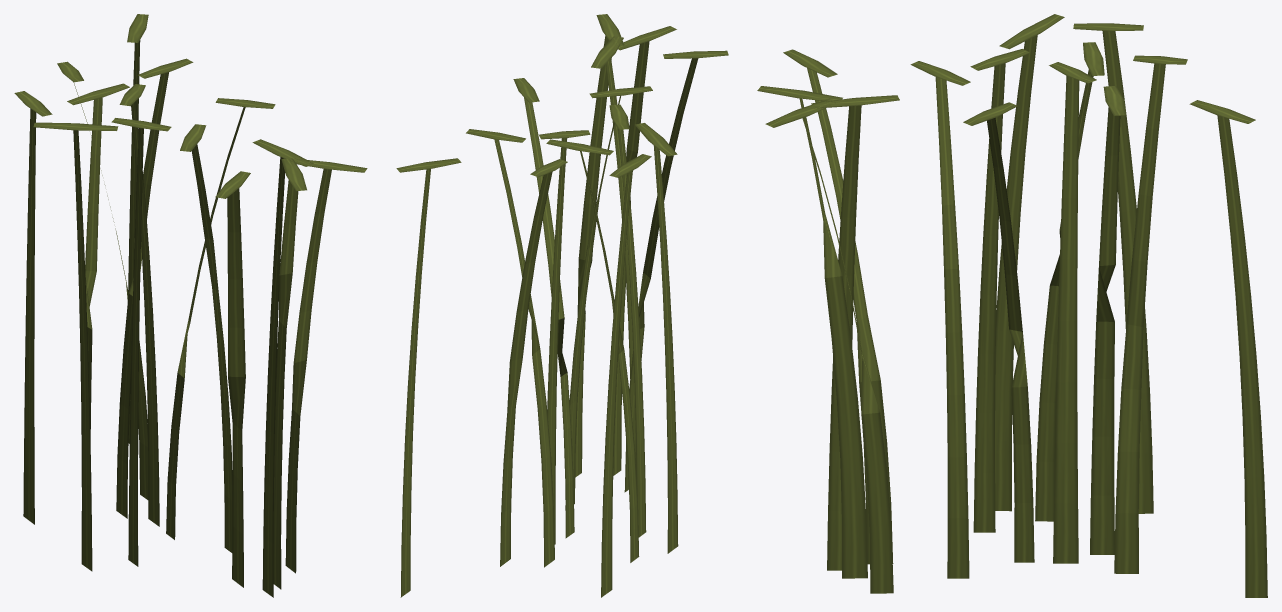
The model's file is pondweed_v2.fbx.
3 views of the same model, side by side, from view 1: azimuth 30°, elevation 25°; view 2: azimuth 150°, elevation 25°; view 3: azimuth 270°, elevation 25° (orthographic). The views are drawn at different scales.
Parts seen in each view (by area): view 1: pondweed_v2; view 2: pondweed_v2; view 3: pondweed_v2.
Part boxes in pixels (<box>): pondweed_v2: <box>14,14,367,597</box>; pondweed_v2: <box>396,14,728,597</box>; pondweed_v2: <box>757,14,1267,597</box>.
Bounding box in the file's own units: 25.46 × 50.12 × 48.2.
Materials: 1 (1 with a texture image).
